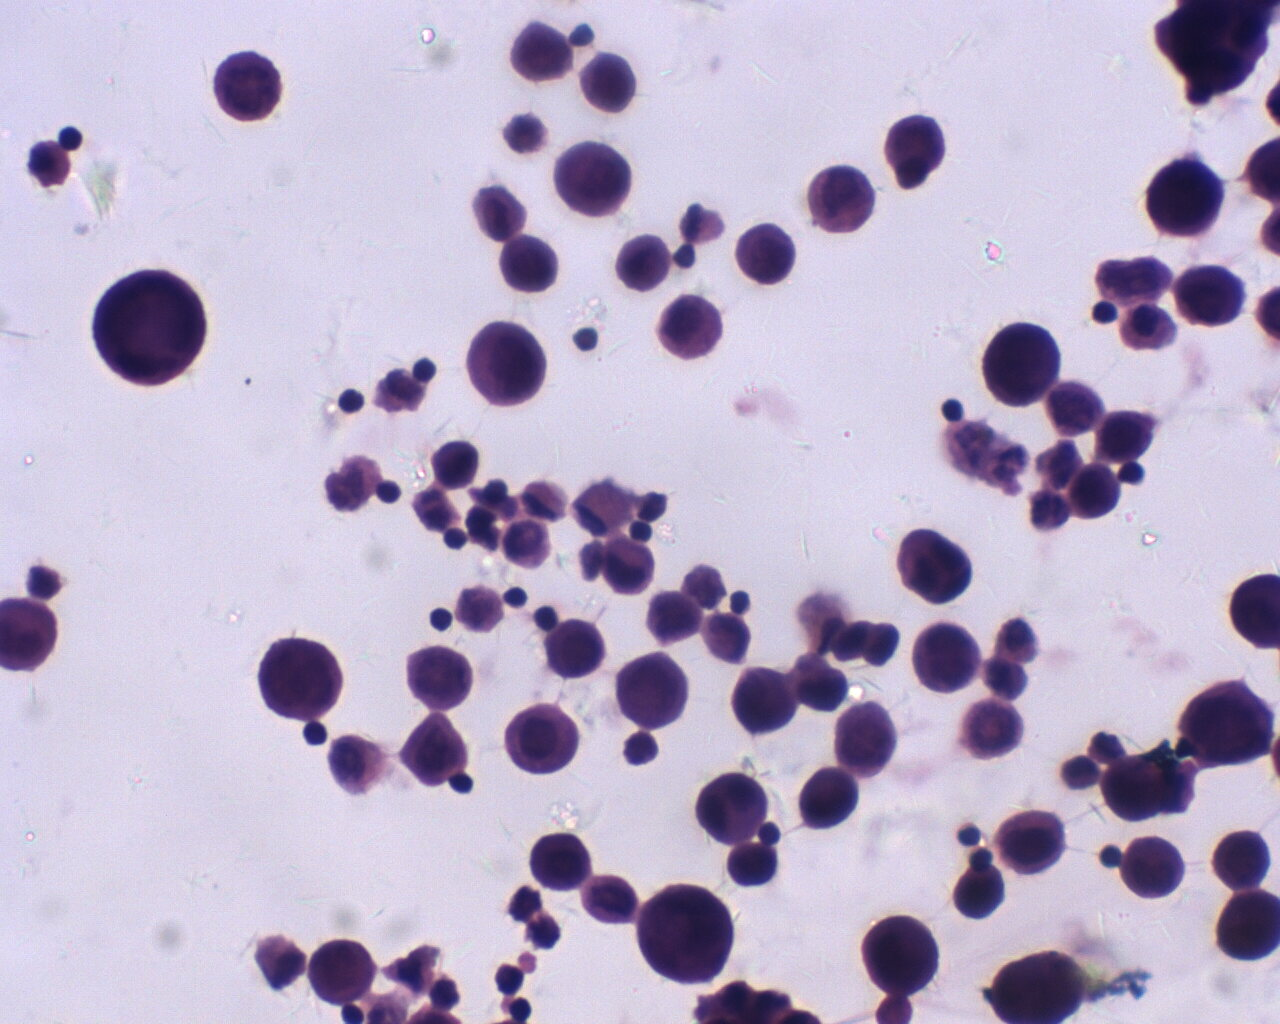ab: (93, 267, 210, 387), (636, 881, 732, 987), (251, 635, 352, 723), (978, 321, 1058, 410), (465, 322, 548, 408), (616, 646, 698, 729), (858, 914, 942, 995), (559, 137, 635, 223), (212, 45, 287, 125)
lymph: (299, 720, 335, 752), (334, 385, 366, 417), (571, 325, 599, 353), (429, 608, 453, 633)
meso: (994, 806, 1073, 883), (647, 292, 725, 363), (506, 705, 578, 776), (1121, 302, 1182, 358)
